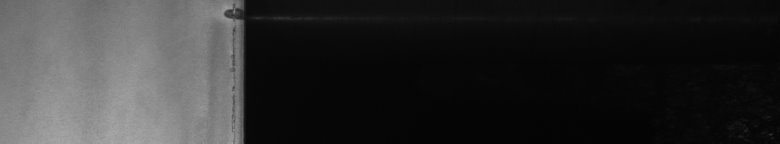hb: (214, 4, 232, 28)
